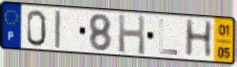0: (25, 9, 48, 48)
8: (87, 13, 114, 53)
H: (116, 13, 147, 57), (183, 17, 215, 58)
I: (53, 9, 62, 50)
L: (158, 18, 180, 56)
